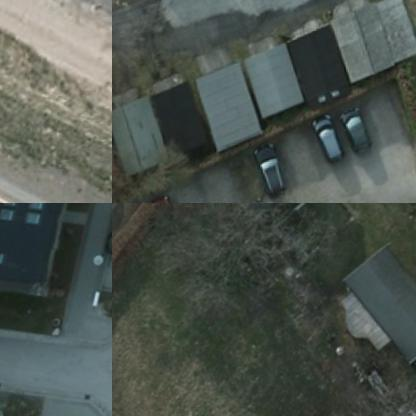car: (258, 142, 296, 200), (344, 104, 381, 156), (316, 110, 351, 164), (153, 191, 191, 202)
